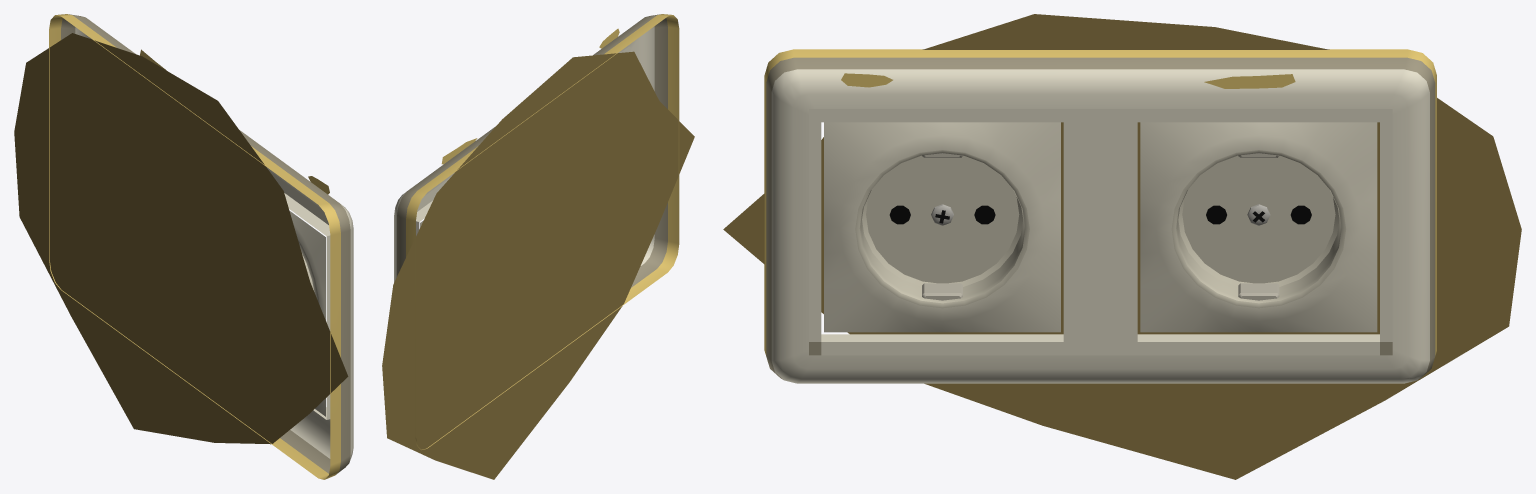
File: outlet.glb
3 renders of one model, left to right at view 1: azimuth 30°, elevation 25°; view 2: azimuth 150°, elevation 25°; view 3: azimuth 270°, elevation 25°, orthographic. The views are drawn at different scales.
Visible parts, largest first — view 1: steckdose; view 2: steckdose; view 3: steckdose.
Boxes of the visible parts, bbox=[...] form: steckdose: bbox=[14, 14, 353, 479]; steckdose: bbox=[382, 14, 694, 479]; steckdose: bbox=[723, 14, 1521, 479].
Bounding box in the file's own units: 0.0102 × 0.1154 × 0.1793.
